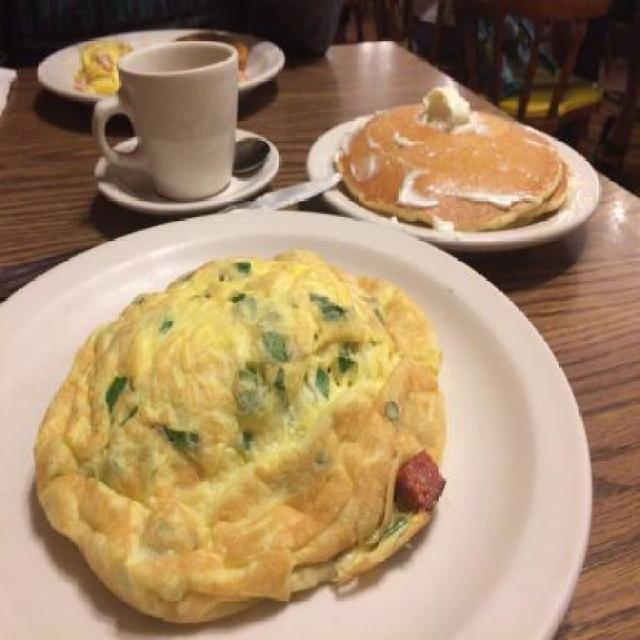ice cream: (414, 81, 486, 136)
omelette: (30, 245, 452, 622), (75, 37, 132, 97)
pancakes: (329, 105, 577, 226)
